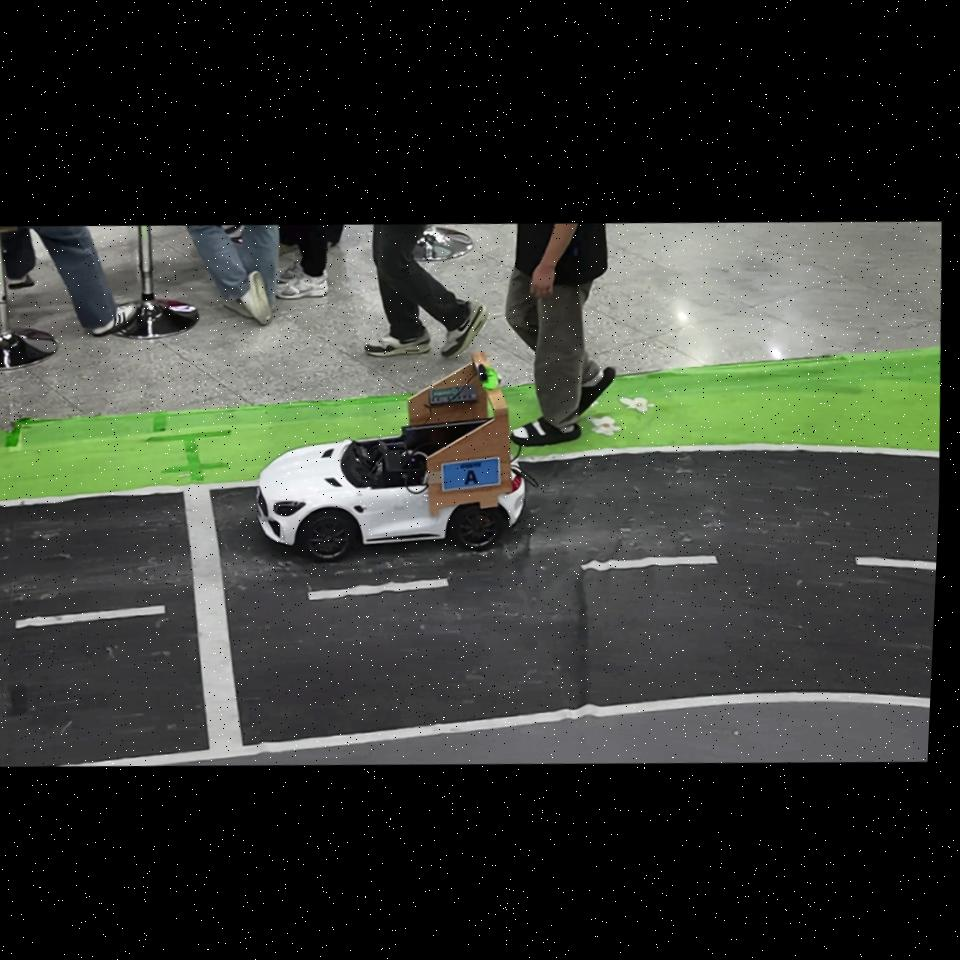broken_line: (15, 605, 165, 628), (308, 578, 449, 600), (580, 556, 718, 571), (856, 557, 936, 570)
